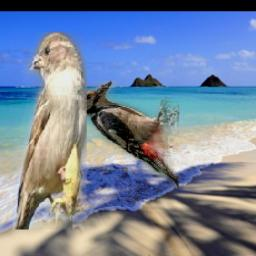Sparrow: (13, 32, 88, 229)
Woodpecker: (75, 82, 180, 189)
